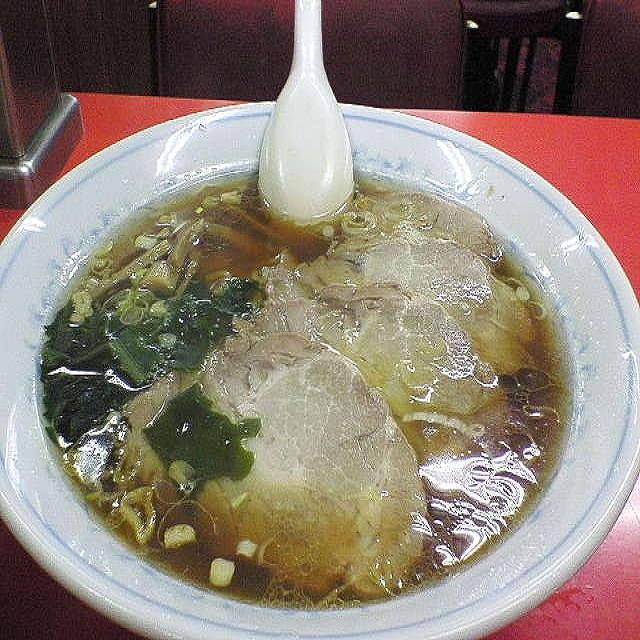面条主食: (29, 173, 577, 604)
